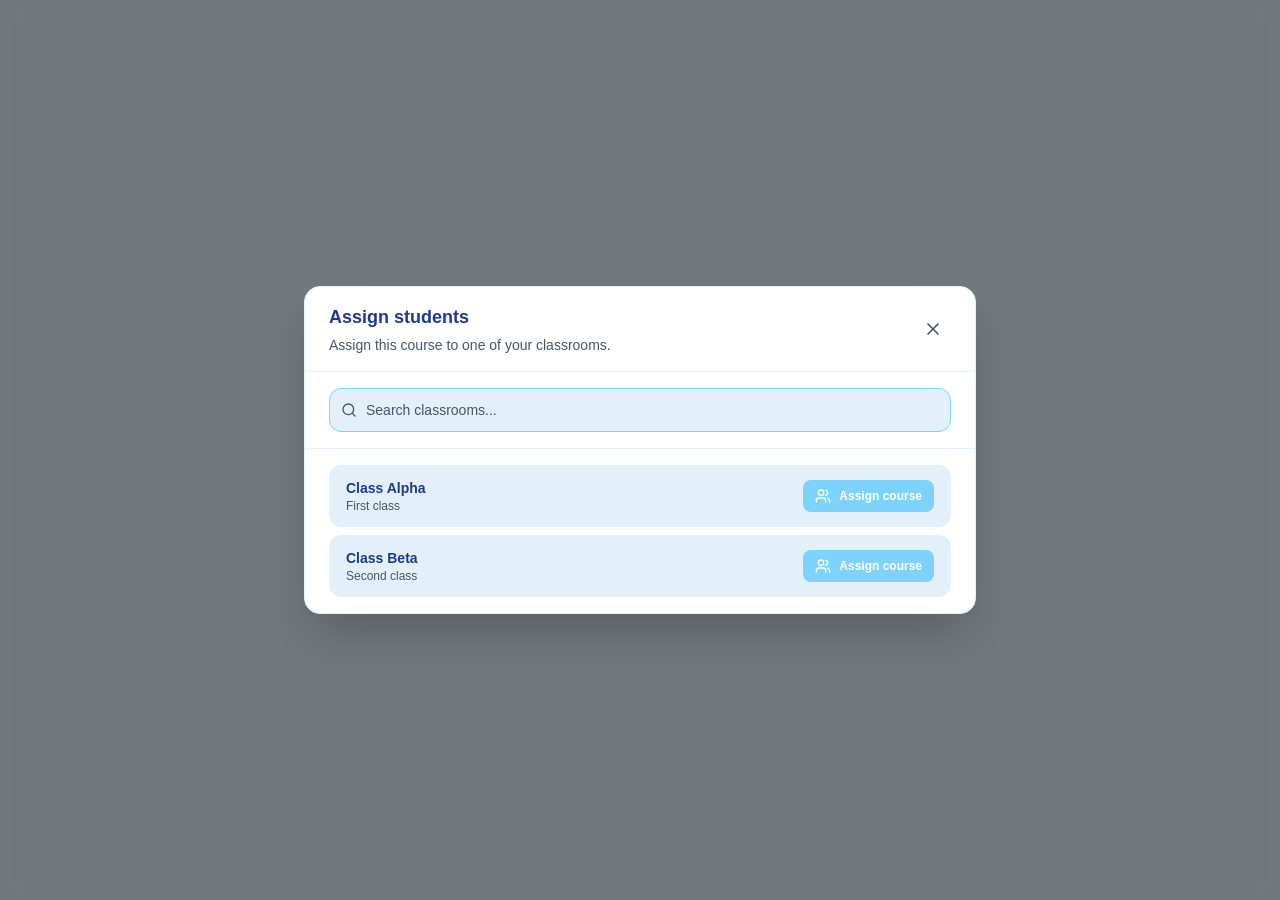
Test: AssignStudentsModal › filters classrooms by search query
The width and height of the screenshot is (1280, 900).
Check: the text "Class Alpha" is shown, box [346,478,426,498]
In the field with placeholder "Search classrooms...": (640, 410) [329,388,951,432], type "Alpha"
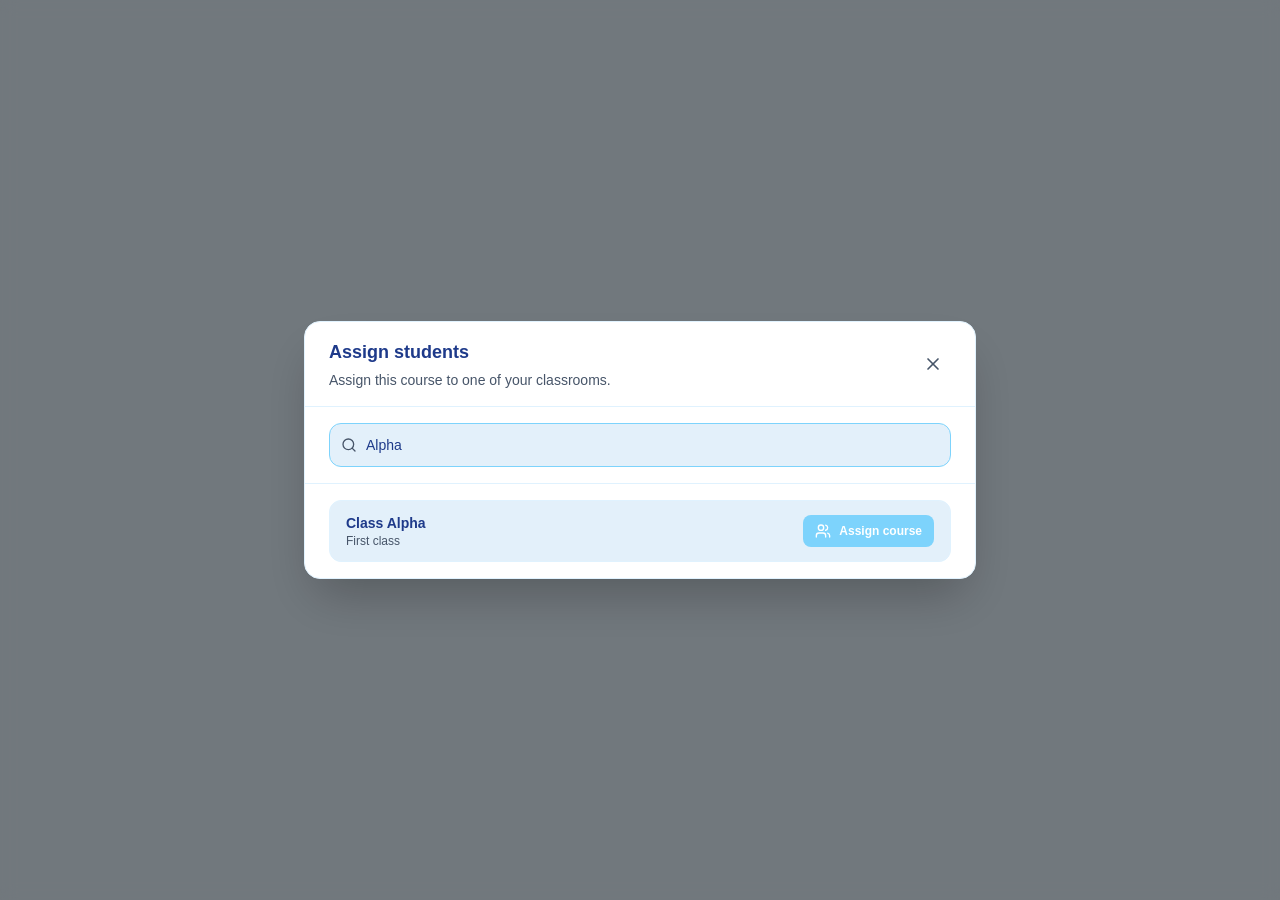
Check: the text "Class Alpha" is shown, box [346,513,426,533]
Check: the text "Class Beta" is gone
